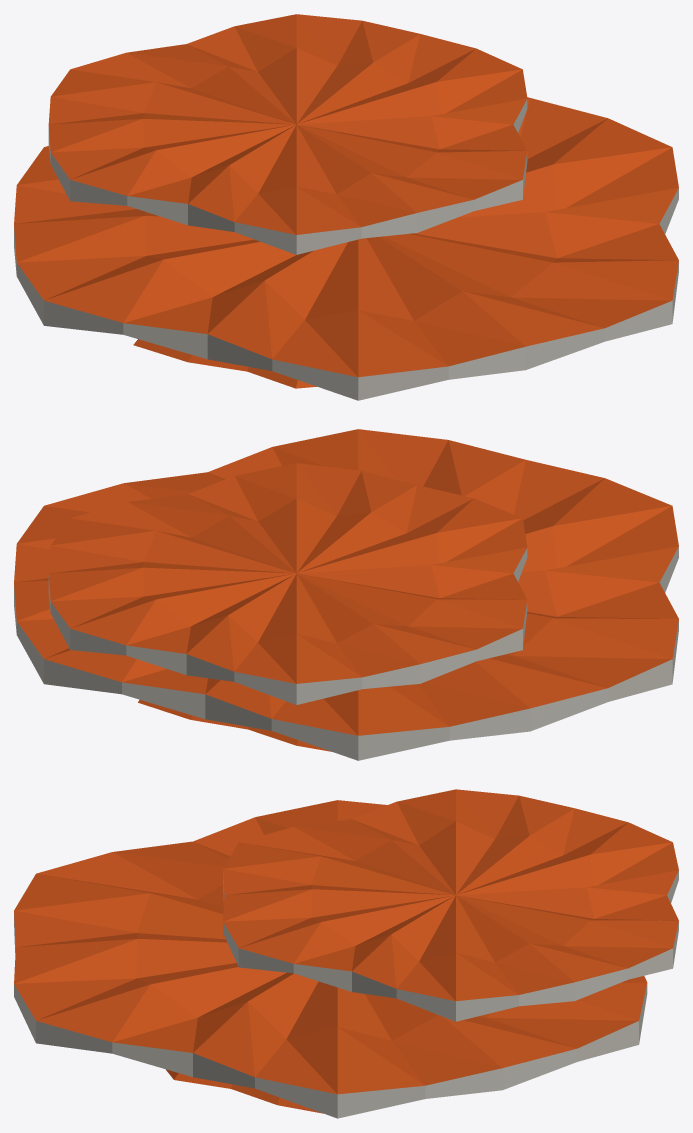
Rendered from plate-montipora-eac399.glb.
3 renders of one model, top to bottom at view 1: azimuth 30°, elevation 25°; view 2: azimuth 150°, elevation 25°; view 3: azimuth 270°, elevation 25°, orthographic. The views are drawn at different scales.
Parts seen in each view (by area): view 1: plate-montipora-shell; view 2: plate-montipora-shell; view 3: plate-montipora-shell.
Boxes of the visible parts, x1=… form: plate-montipora-shell: x1=14, y1=14, x2=678, y2=400; plate-montipora-shell: x1=14, y1=429, x2=678, y2=760; plate-montipora-shell: x1=14, y1=789, x2=678, y2=1118.
Size of the model in its own units: 0.3 by 0.0588 by 0.2865.
